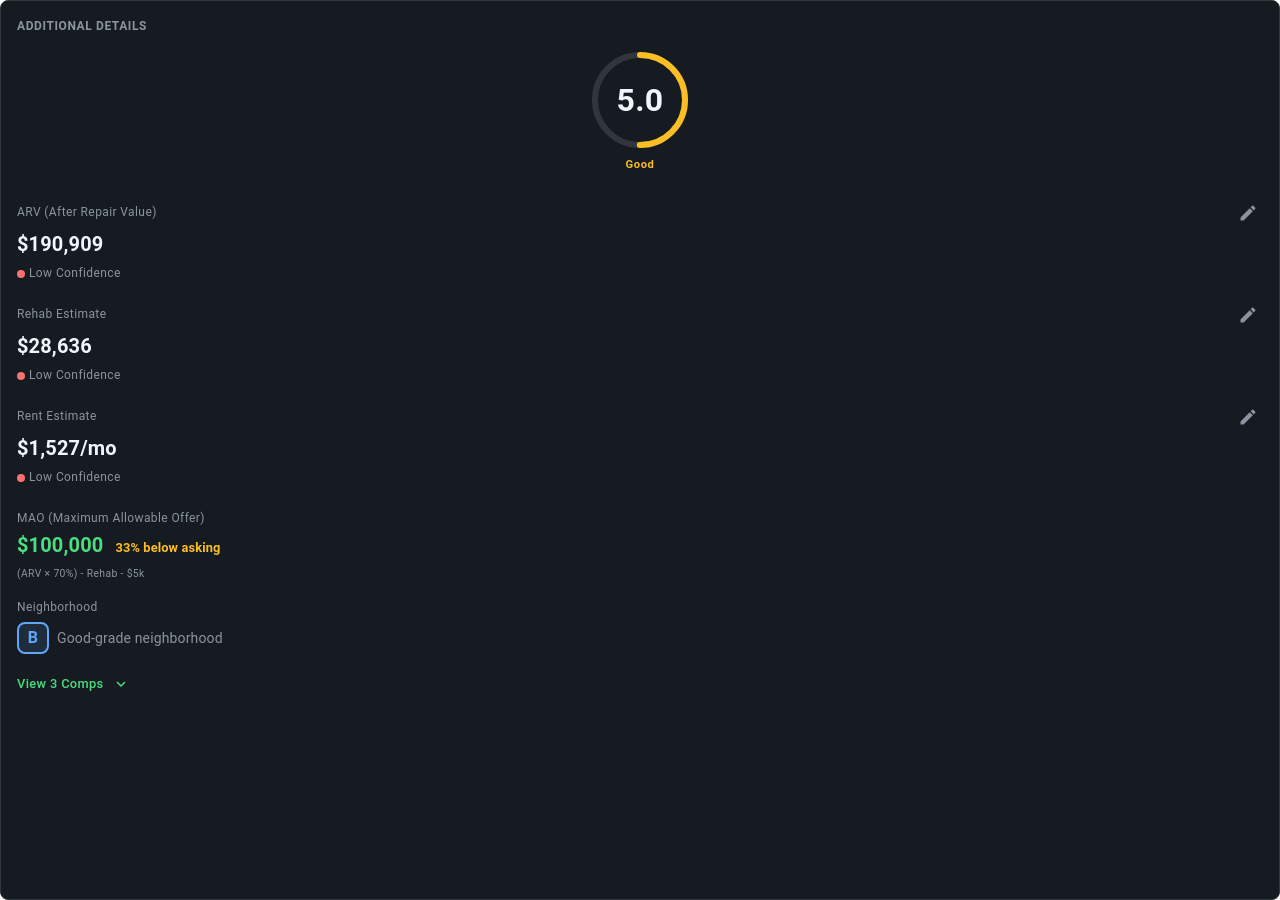
Test: EvaluationSection › inline editing › should cancel editing when Cancel is clicked
Note: Click edit button
Click the button named "Edit ARV" at (1248, 213), box top-left (1233, 198), bottom-right (1263, 228)
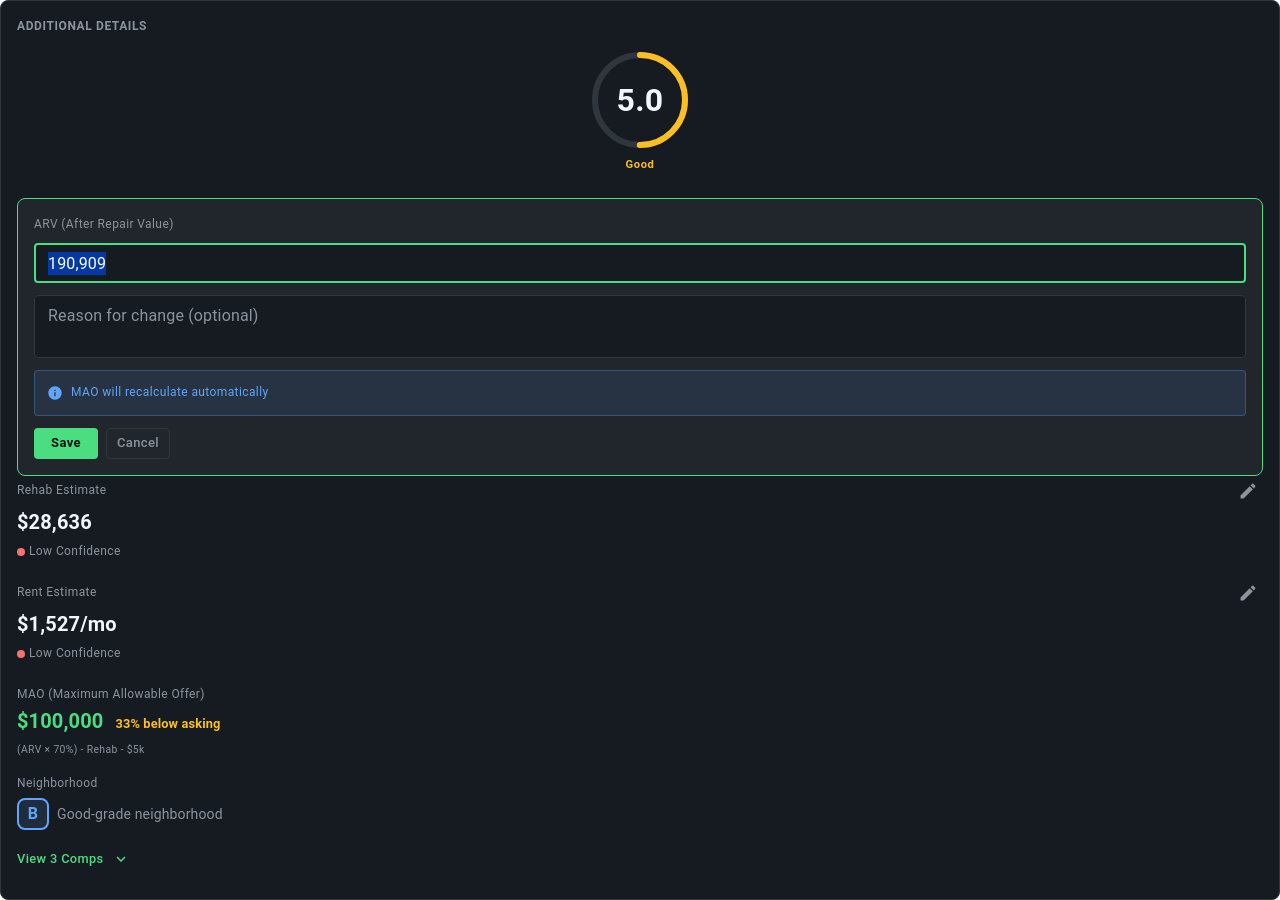
Expected: the button "Save" is shown, top-left (34, 428), bottom-right (98, 459)
Note: Click cancel
Click the button "Cancel" at (138, 444), box top-left (106, 428), bottom-right (170, 459)
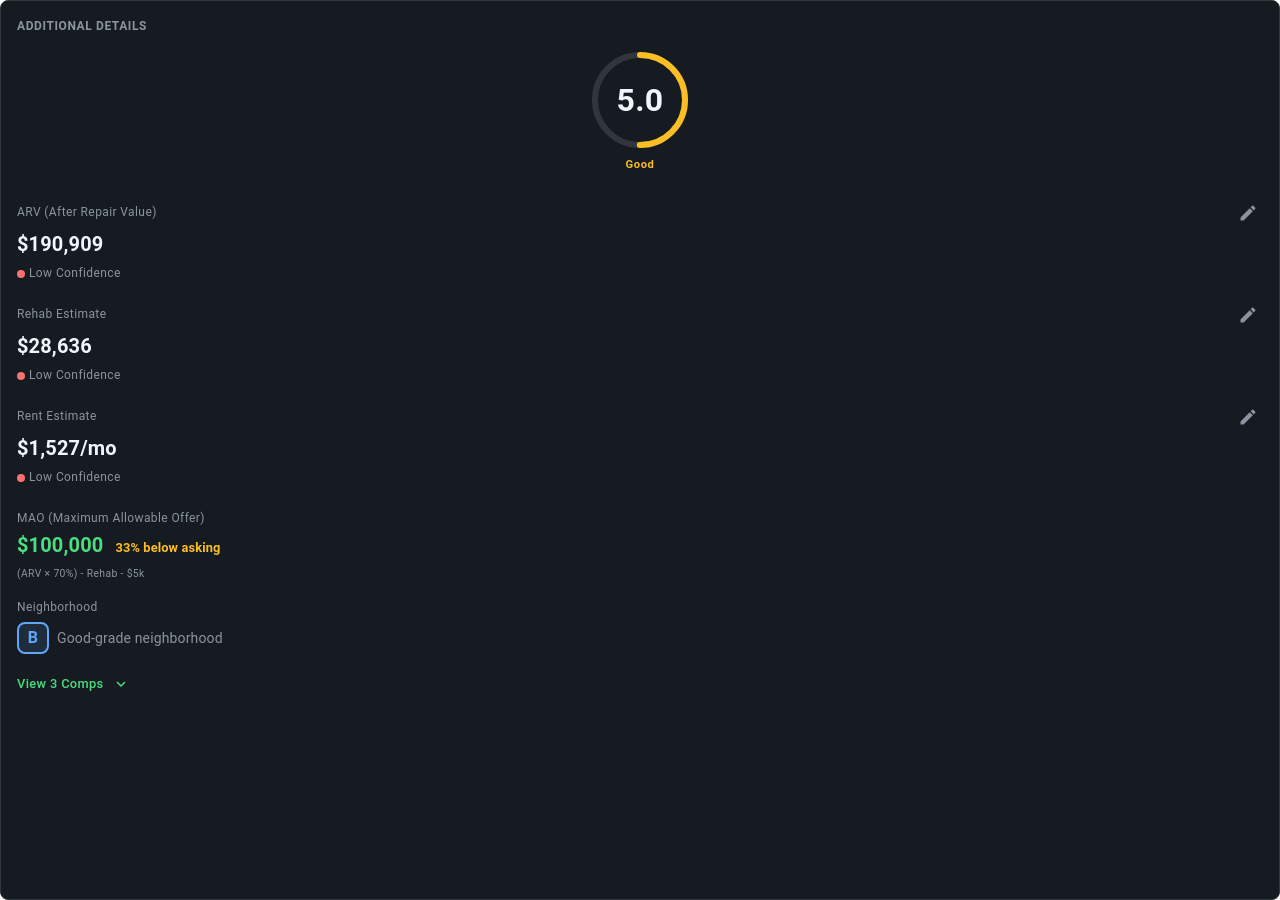
Expected: the button "Save" is gone
